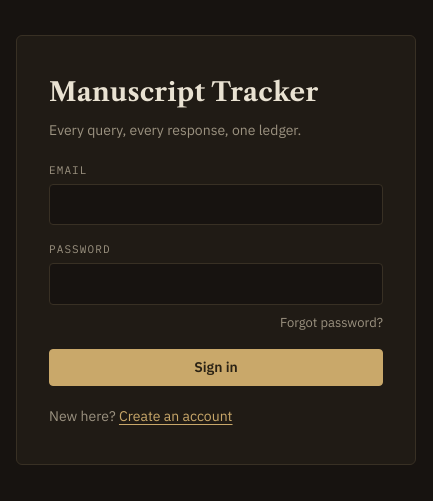
Test: LoginPage › explains a network failure
Check: the heading "Manuscript Tracker" is shown, box x1=49 y1=76 x2=318 y2=108
Type "robert@example.test" into the field labelled "Email" at [216, 205], box x1=49 y1=184 x2=383 y2=225
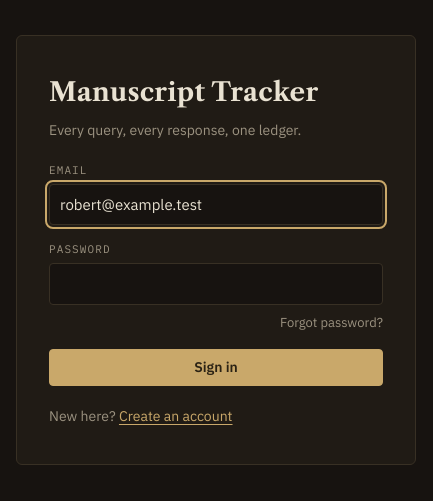
Type "password" into the password field labelled "Password" at [216, 284], box x1=49 y1=263 x2=383 y2=305
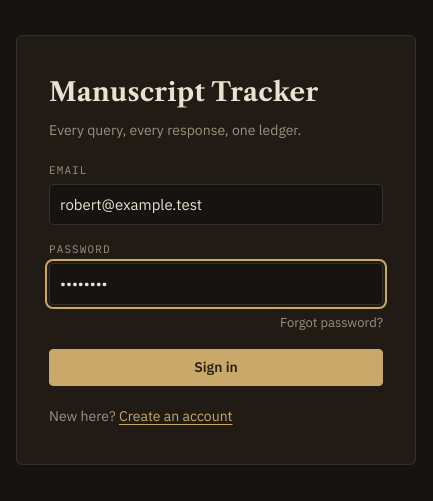
Click the button "Sign in" at [216, 368], box x1=49 y1=349 x2=383 y2=386
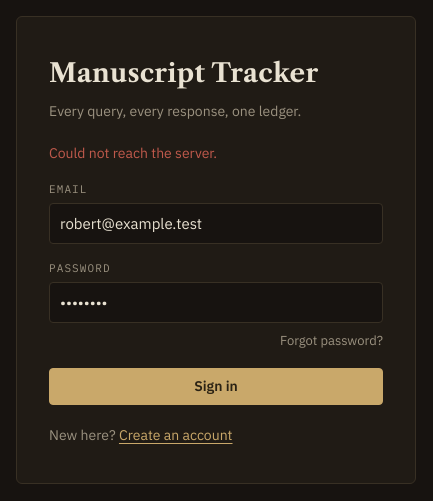
Check: the message reads "Could not reach the server.", box x1=49 y1=144 x2=217 y2=162
